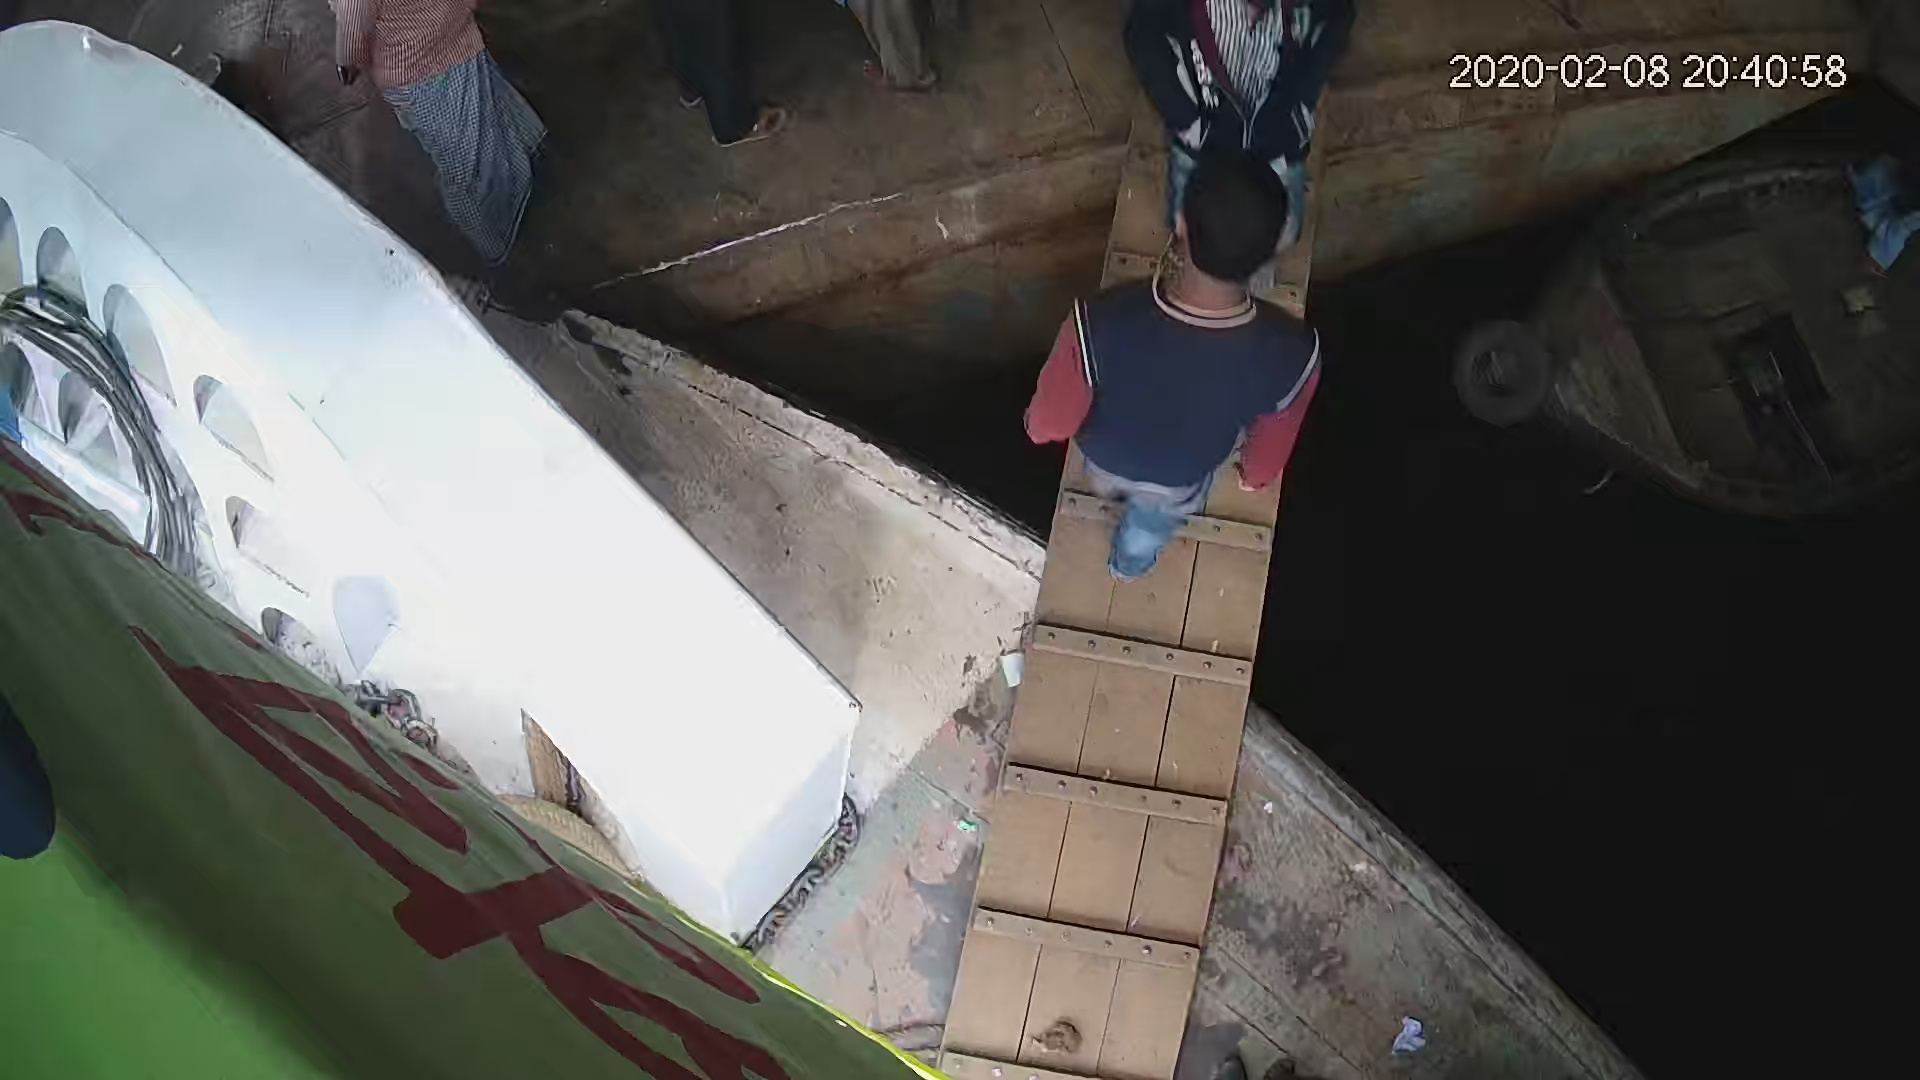person: (1023, 157, 1327, 578), (316, 1, 563, 280), (1124, 1, 1352, 257)
